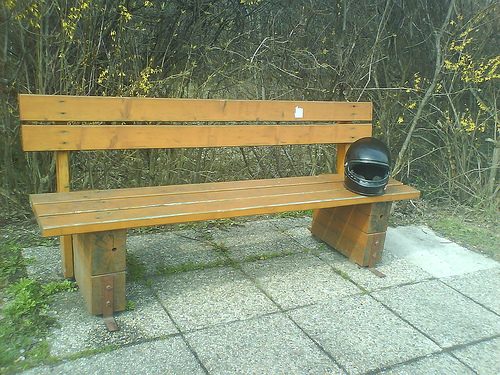helmet: (343, 137, 392, 192)
